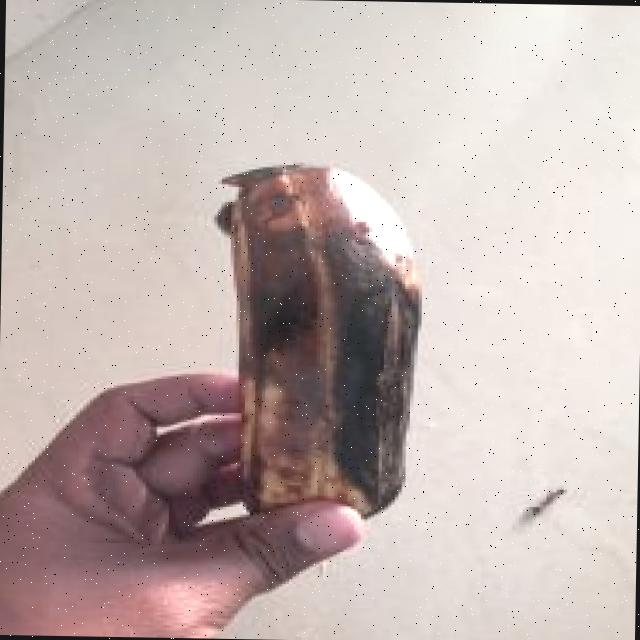Rotten: (124, 128, 463, 530)
